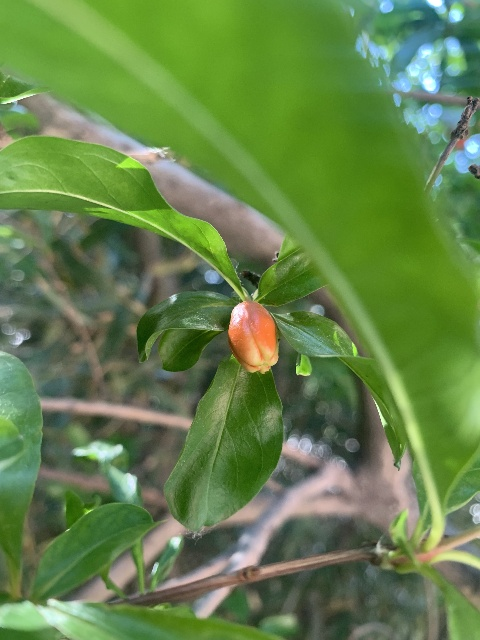bud: (227, 300, 278, 373)
